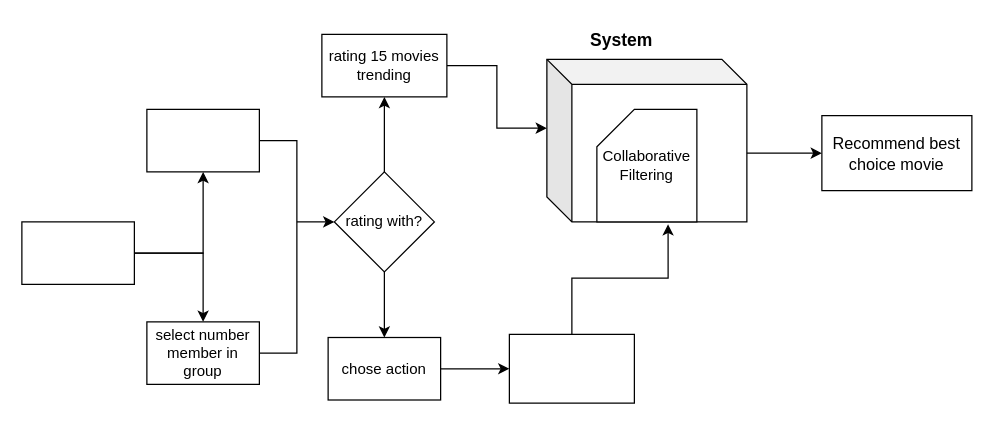
The diagram is 994 pixels wide and 425 high, and some of its shapes have lost their labels. Each missing label, with the box of its shape:
input age and gender: (146, 108, 259, 172)
rating movies in chosen action: (508, 333, 634, 403)
user: (21, 221, 134, 284)
